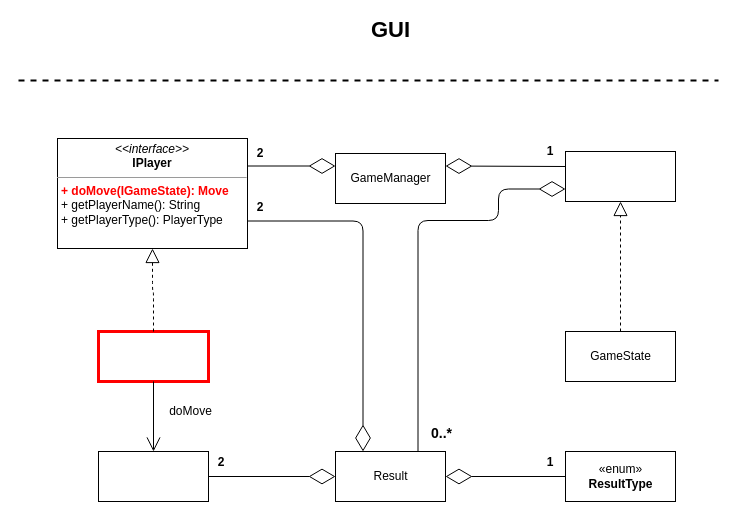
The diagram is 737 pixels wide and 520 high, and some of its shapes have lost their labels. The shapes that lost their labels are listed below. From the top down, each one's centre as x and y in pixels, then its label:
the point at 620,176: «interface» IGameState
the point at 153,356: Player
the point at 153,476: «enum» Move
